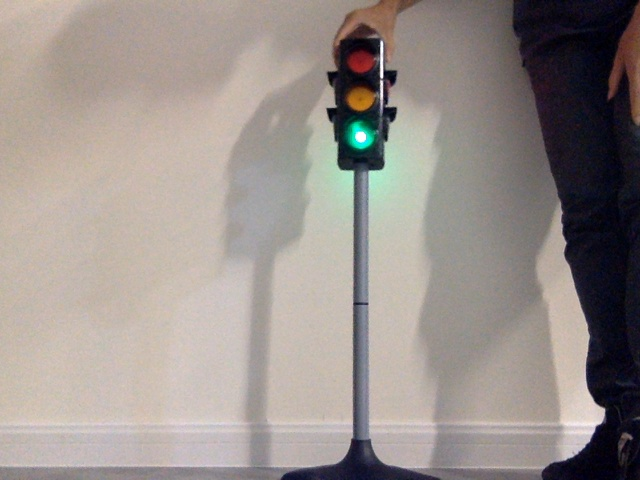green: (342, 48, 375, 153)
